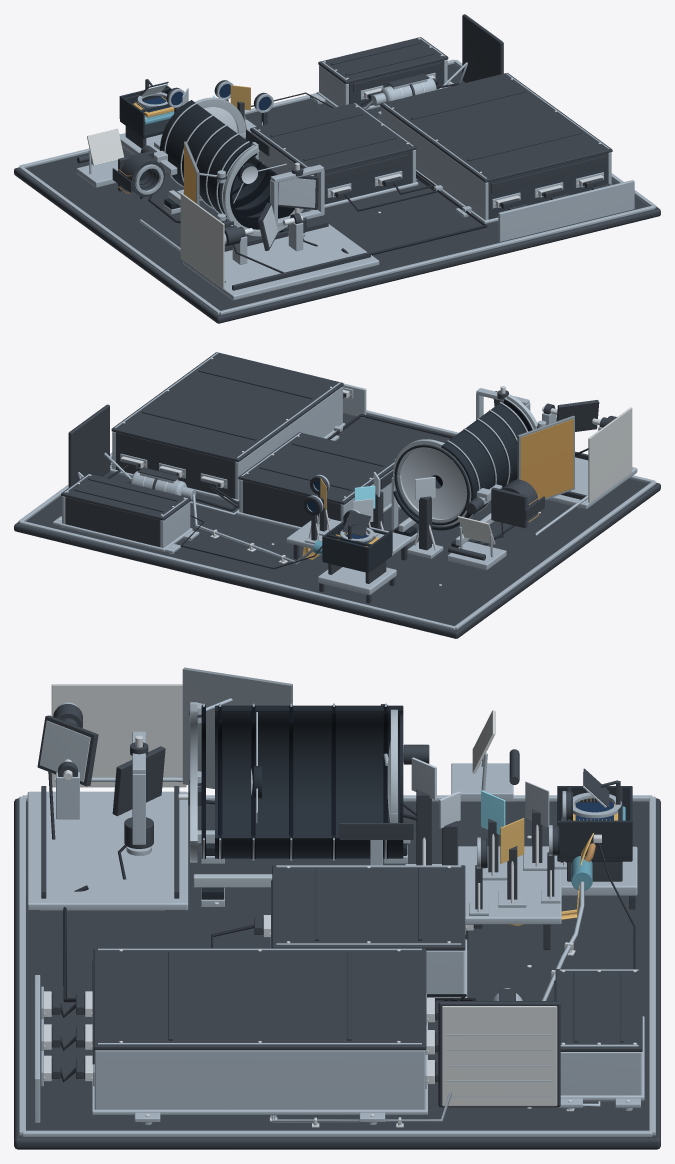
The model's file is payload.glb.
3 renders of one model, top to bottom at view 1: azimuth 30°, elevation 25°; view 2: azimuth 150°, elevation 25°; view 3: azimuth 270°, elevation 25°, orthographic. The views are drawn at different scales.
Parts seen in each view (by area): view 1: Bench — Anodized chassis, InstrumentElectronicsCover — Anodized chassis, ScanSystem — Machined satin aluminum, SensorElectronicsCover — Anodized chassis, TelescopeStructure — Black anodized aluminum, Bench — Machined satin aluminum, InstrumentElectronics — Machined satin aluminum, SpacecraftInterface — Machined satin aluminum, InstrumentElectronics — Anodized chassis, CoolerElectronicsCover — Anodized chassis, ScanSystem — Radiator coating, SensorElectronics — Anodized chassis (+20 smaller); view 2: Bench — Anodized chassis, InstrumentElectronicsCover — Anodized chassis, SensorElectronicsCover — Anodized chassis, TelescopeStructure — Black anodized aluminum, Bench — Machined satin aluminum, InstrumentElectronics — Anodized chassis, Mechanisms — Representative MLI outer layer, InstrumentElectronics — Machined satin aluminum, CoolerElectronicsCover — Anodized chassis, ScanSystem — Radiator coating, Optics — Illustrative mirror, Thermal — Anodized chassis (+25 smaller); view 3: Bench — Anodized chassis, InstrumentElectronicsCover — Anodized chassis, TelescopeStructure — Black anodized aluminum, InstrumentElectronics — Machined satin aluminum, ScanSystem — Machined satin aluminum, SensorElectronicsCover — Anodized chassis, Thermal — Radiator coating, Bench — Machined satin aluminum, ScanSystem — Radiator coating, CoolerElectronicsCover — Anodized chassis, AftOptics — Machined satin aluminum, Mechanisms — MLI inner layer (+27 smaller).
Part boxes in pixels (bbox=[...]): Bench — Anodized chassis: bbox=[14, 63, 660, 323]; InstrumentElectronicsCover — Anodized chassis: bbox=[380, 73, 612, 182]; ScanSystem — Machined satin aluminum: bbox=[139, 164, 379, 300]; SensorElectronicsCover — Anodized chassis: bbox=[250, 102, 416, 175]; TelescopeStructure — Black anodized aluminum: bbox=[160, 100, 287, 232]; Bench — Machined satin aluminum: bbox=[18, 59, 656, 314]; InstrumentElectronics — Machined satin aluminum: bbox=[381, 107, 611, 224]; SpacecraftInterface — Machined satin aluminum: bbox=[498, 180, 634, 241]; InstrumentElectronics — Anodized chassis: bbox=[488, 153, 608, 219]; CoolerElectronicsCover — Anodized chassis: bbox=[318, 37, 448, 84]; ScanSystem — Radiator coating: bbox=[180, 193, 224, 288]; SensorElectronics — Anodized chassis: bbox=[314, 150, 412, 204]; Bench — Anodized chassis: bbox=[14, 413, 660, 638]; InstrumentElectronicsCover — Anodized chassis: bbox=[111, 352, 343, 462]; SensorElectronicsCover — Anodized chassis: bbox=[238, 432, 397, 504]; TelescopeStructure — Black anodized aluminum: bbox=[393, 402, 528, 547]; Bench — Machined satin aluminum: bbox=[18, 410, 656, 630]; InstrumentElectronics — Anodized chassis: bbox=[115, 432, 235, 498]; Mechanisms — Representative MLI outer layer: bbox=[520, 419, 573, 499]; InstrumentElectronics — Machined satin aluminum: bbox=[110, 386, 345, 503]; CoolerElectronicsCover — Anodized chassis: bbox=[61, 473, 190, 520]; ScanSystem — Radiator coating: bbox=[588, 407, 632, 503]; Optics — Illustrative mirror: bbox=[401, 448, 466, 518]; Thermal — Anodized chassis: bbox=[69, 404, 179, 489]; Bench — Anodized chassis: bbox=[14, 798, 660, 1149]; InstrumentElectronicsCover — Anodized chassis: bbox=[93, 948, 426, 1050]; TelescopeStructure — Black anodized aluminum: bbox=[201, 705, 407, 899]; InstrumentElectronics — Machined satin aluminum: bbox=[92, 993, 427, 1124]; ScanSystem — Machined satin aluminum: bbox=[27, 702, 188, 910]; SensorElectronicsCover — Anodized chassis: bbox=[272, 865, 465, 950]; Thermal — Radiator coating: bbox=[442, 1006, 557, 1106]; Bench — Machined satin aluminum: bbox=[19, 795, 655, 1136]; ScanSystem — Radiator coating: bbox=[51, 684, 186, 787]; CoolerElectronicsCover — Anodized chassis: bbox=[555, 969, 642, 1051]; AftOptics — Machined satin aluminum: bbox=[457, 791, 566, 924]; Mechanisms — MLI inner layer: bbox=[182, 667, 292, 788].
Size of the model in its own units: 11.4 by 2.97 by 9.1.
